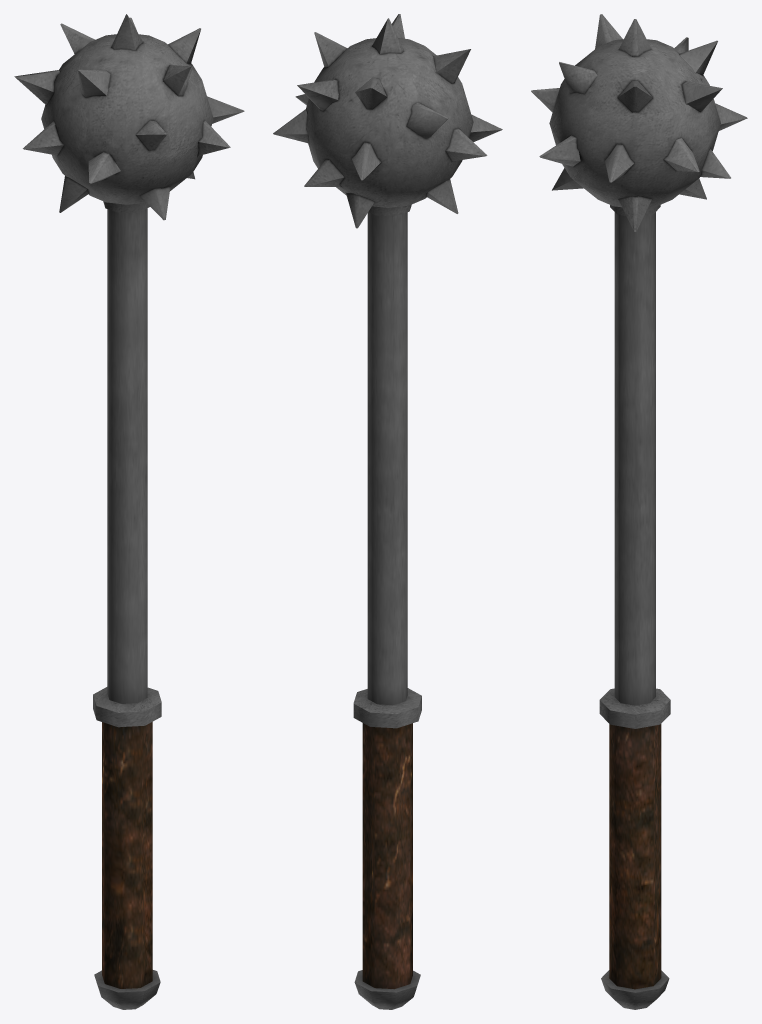
File: og_mace.glb
3 renders of one model, left to right at view 1: azimuth 30°, elevation 25°; view 2: azimuth 150°, elevation 25°; view 3: azimuth 270°, elevation 25°, orthographic.
Size of the model in its own units: 0.2186 by 1 by 0.1997.
Materials: 1 (1 with a texture image).
